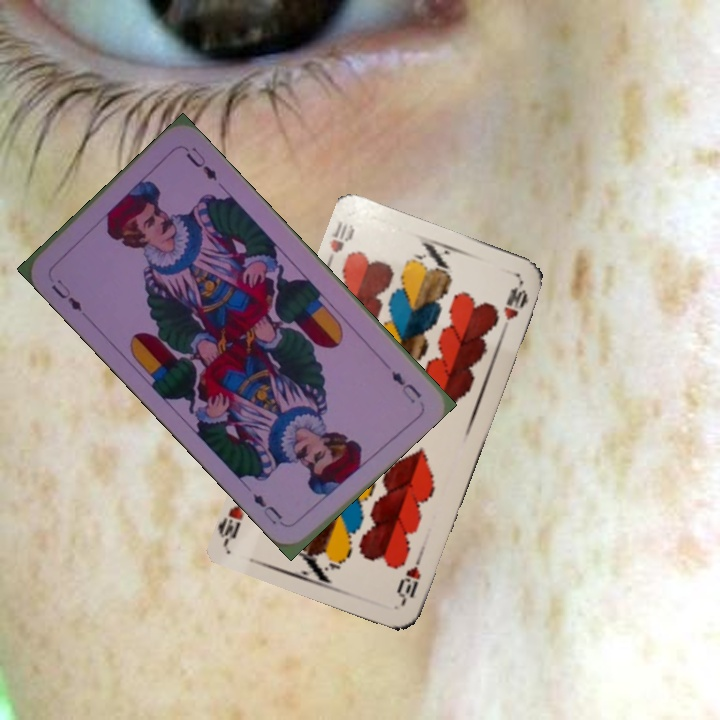EU: (47, 274, 85, 314), (387, 366, 425, 406)
H10: (321, 217, 358, 271), (393, 551, 425, 608)
